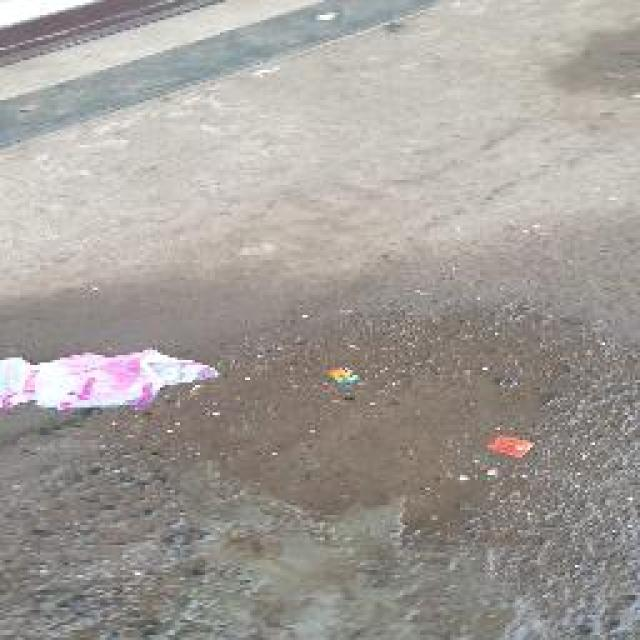stagnation: (157, 343, 528, 530)
